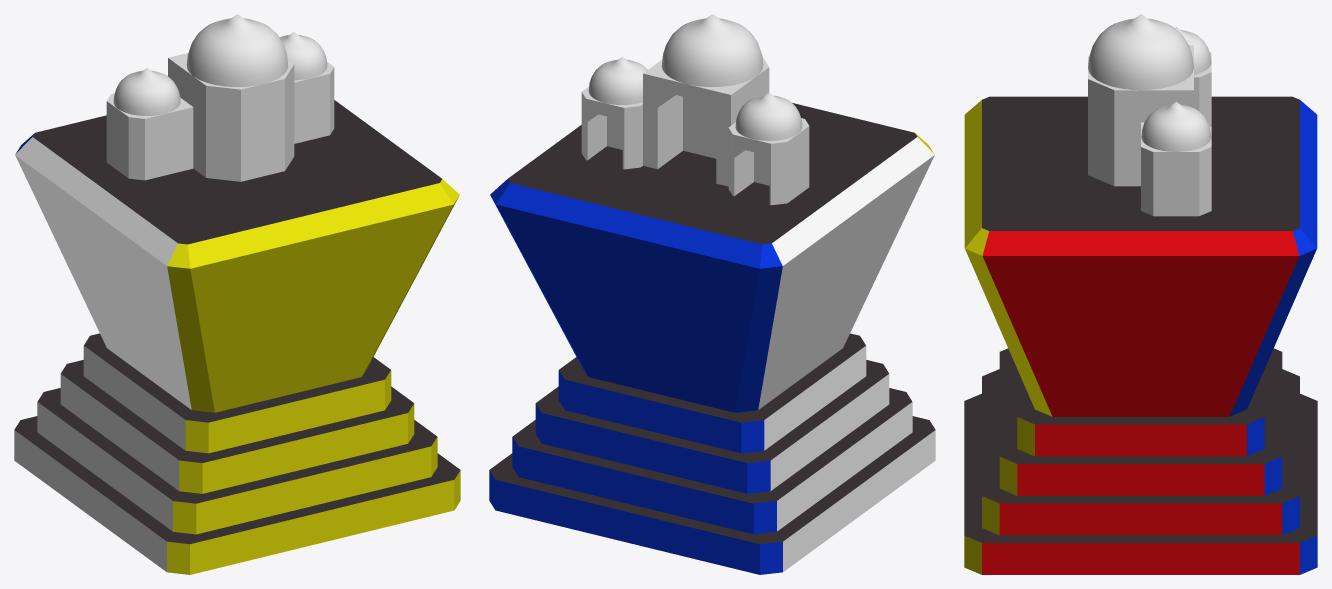
Rendered from mountmeru.gltf.
3 renders of one model, left to right at view 1: azimuth 30°, elevation 25°; view 2: azimuth 150°, elevation 25°; view 3: azimuth 270°, elevation 25°, orthographic. The views are drawn at different scales.
Visible parts, largest first — view 1: base, castlecenter, Cube.006, Sphere, Cube.007, Sphere.001, Sphere.002; view 2: base, castlecenter, Sphere, Cube.006, Cube.007, Sphere.001, Sphere.002; view 3: base, castlecenter, Sphere, Cube.007, Sphere.002, Cube.006, Sphere.001.
Part boxes in pixels (box(x1,y1,x2,y2)): base: box(14, 100, 460, 574); castlecenter: box(168, 53, 294, 181); Cube.006: box(106, 93, 193, 180); Sphere: box(186, 14, 288, 86); Cube.007: box(294, 62, 334, 143); Sphere.001: box(113, 68, 180, 115); Sphere.002: box(279, 32, 327, 80); base: box(489, 103, 935, 574); castlecenter: box(643, 56, 769, 186); Sphere: box(661, 14, 763, 86); Cube.006: box(728, 118, 809, 205); Cube.007: box(581, 86, 642, 169); Sphere.001: box(735, 93, 802, 140); Sphere.002: box(588, 57, 647, 104); base: box(964, 96, 1317, 574); castlecenter: box(1088, 45, 1193, 186); Sphere: box(1088, 14, 1193, 90); Cube.007: box(1141, 122, 1211, 216); Sphere.002: box(1141, 101, 1211, 151); Cube.006: box(1194, 52, 1211, 127); Sphere.001: box(1175, 27, 1211, 74).
Bounding box in the file's own units: 20 × 30.36 × 20.
